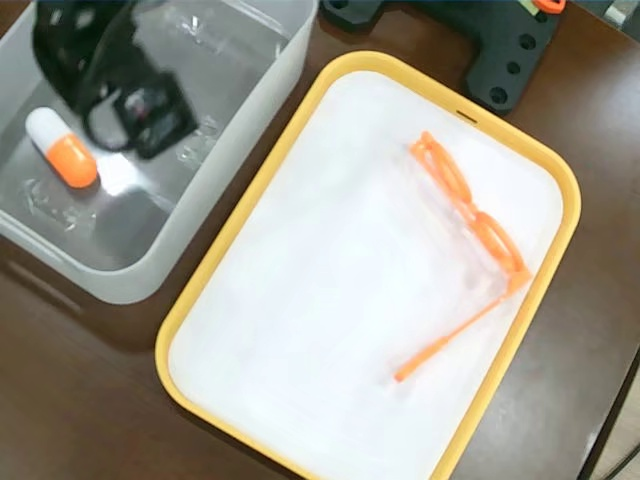pill: (24, 106, 104, 189)
